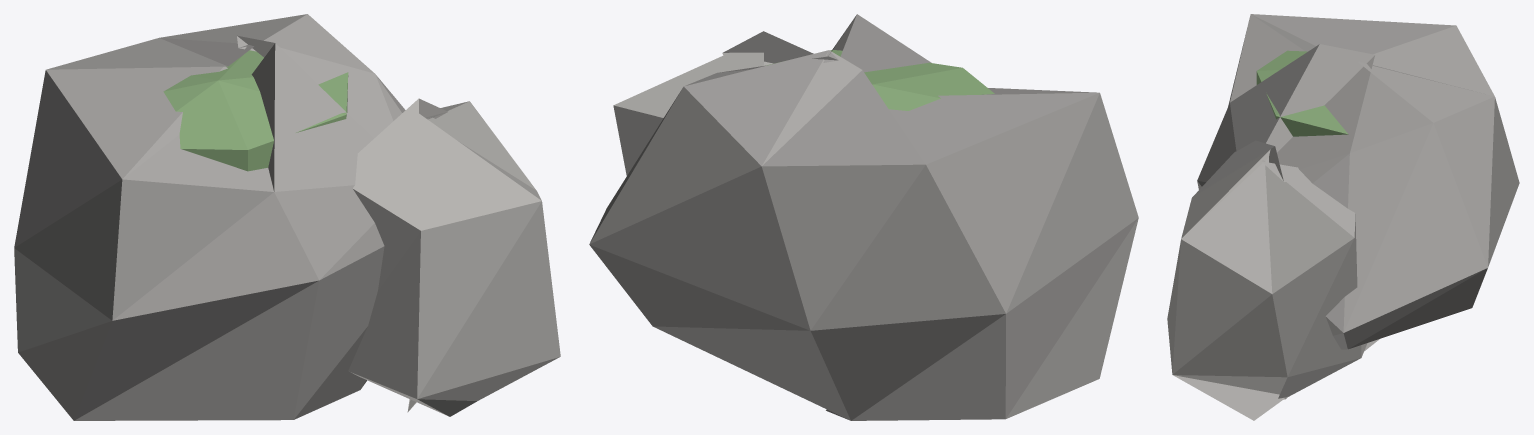
Rendered from valak_rocha_2.glb.
The picture shows the model from 3 angles, left to right: view 1: azimuth 30°, elevation 25°; view 2: azimuth 150°, elevation 25°; view 3: azimuth 270°, elevation 25°; orthographic projection. The views are drawn at different scales.
Visible parts, largest first — view 1: rocha; view 2: rocha; view 3: rocha.
Part boxes in pixels (x1,y1,x2,y2): rocha: [14, 14, 560, 420]; rocha: [589, 14, 1138, 420]; rocha: [1167, 14, 1519, 420].
Bounding box in the file's own units: 1.65 × 1.32 × 1.33.
